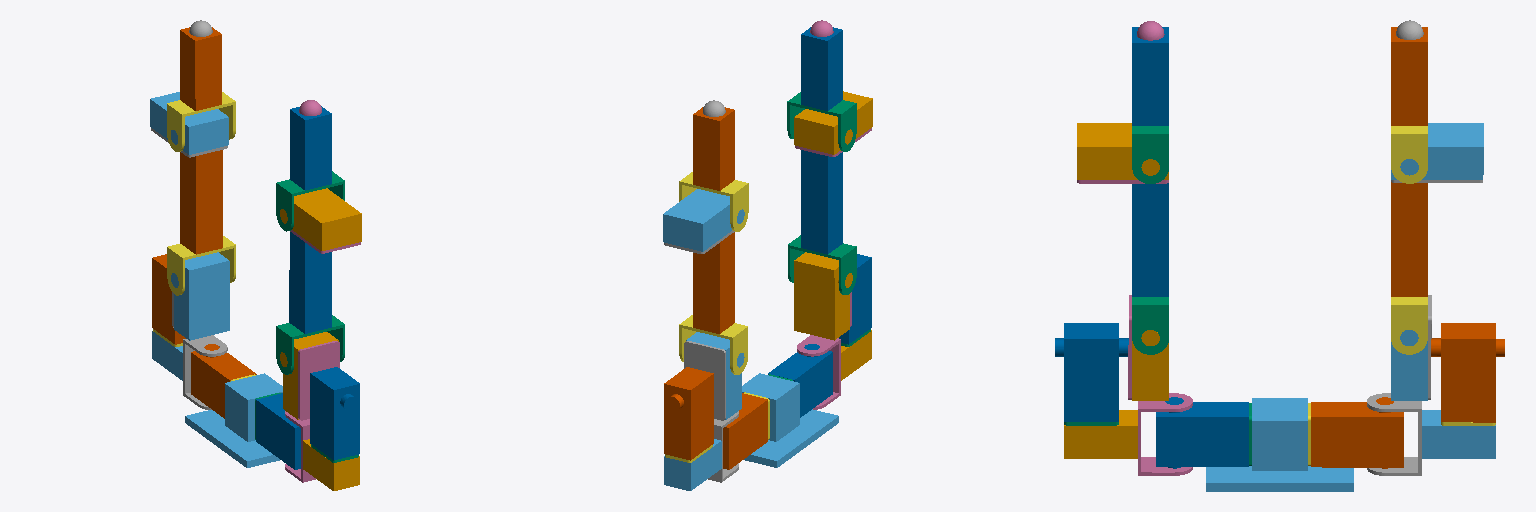
--- What the picture shows (computed from the rendered views, not written in the file) ---
Views: 3 orthographic renders of the robot side by side, from view 1: azimuth 30°, elevation 25°; view 2: azimuth 150°, elevation 25°; view 3: azimuth 270°, elevation 25°.
Model gripper_v1 with 34 links and 33 joints (8 revolute, 25 fixed), rooted at map, posed all joints at 0.
Visible links, largest first — view 1: base_link, link_20, link_11, link_16, link_19, link_23, link_27, link_28, link_24, link_4, link_3, link_13 (+10 smaller); view 2: base_link, link_12, link_15, link_19, link_20, link_24, link_27, link_28, link_23, link_4, link_3, link_8 (+10 smaller); view 3: base_link, link_4, link_3, link_12, link_11, link_20, link_19, link_24, link_23, link_28, link_27, link_7 (+9 smaller).
Link boxes in pixels (x1,y1,x2,y2): base_link: (185, 373, 282, 467); link_20: (180, 150, 222, 254); link_11: (310, 367, 359, 460); link_16: (171, 252, 229, 340); link_19: (289, 232, 331, 333); link_23: (280, 188, 361, 250); link_27: (290, 106, 331, 190); link_28: (180, 27, 221, 110); link_24: (150, 92, 228, 154); link_4: (191, 344, 256, 418); link_3: (256, 393, 300, 469); link_13: (298, 341, 339, 420); base_link: (742, 373, 838, 467); link_12: (664, 367, 713, 460); link_15: (794, 252, 852, 340); link_19: (801, 150, 842, 254); link_20: (693, 232, 734, 333); link_24: (663, 189, 744, 251); link_27: (801, 27, 842, 110); link_28: (693, 107, 734, 190); link_23: (794, 91, 872, 154); link_4: (723, 393, 767, 469); link_3: (768, 344, 832, 417); link_8: (664, 439, 721, 490); base_link: (1206, 398, 1353, 491); link_4: (1311, 397, 1403, 468); link_3: (1156, 397, 1248, 468); link_12: (1431, 323, 1504, 422); link_11: (1055, 323, 1128, 421); link_20: (1391, 182, 1427, 296); link_19: (1132, 183, 1168, 296); link_24: (1391, 123, 1483, 179); link_23: (1077, 123, 1168, 179); link_28: (1391, 27, 1427, 125); link_27: (1132, 27, 1168, 125); link_7: (1064, 410, 1137, 458).
Bounding box of the posed robot: 0.6 × 2.44 × 2.67 m (x, y, z).
25 mesh visuals loaded from 6 distinct referenced files (6 binary STL).

robot.urdf — gripper_v1:
<?xml version="1.0" ?>
<robot name="gripper_v1">
    <!-- ################################################################################################# -->
    <!-- Map -->
    <link name="map" />
    <!-- Base Link -->
    <link name="base_link">
        <visual>
            <geometry>
                <mesh filename="package://robot_description/meshes/Base.stl" scale="0.01 0.01 0.01" />
            </geometry>
            <material name="White" />
        </visual>
        <collision>
            <geometry>
                <mesh filename="package://robot_description/meshes/Base.stl" scale="0.01 0.01 0.01" />
            </geometry>
            <material name="White" />
        </collision>
        <inertial>
            <mass value="1.0" />
            <origin xyz="0 0 0" rpy="0 0 0" />
            <inertia ixx="0.01" ixy="0" ixz="0" iyy="0.01" iyz="0" izz="0.01" />
        </inertial>
    </link>
    <!-- Joint 0 -->
    <joint name="joint_0" type="fixed">
        <parent link="map" />
        <child link="base_link" />
        <origin xyz="0 0 0.025" rpy="0 0 0" />
    </joint>
    <!-- ################################################################################################# -->
    <!-- Link 1 -->
    <link name="link_1">
        <visual>
            <geometry>
                <mesh filename="package://robot_description/meshes/Servo_Plate_20x30.stl" scale="0.01 0.01 0.01" />
            </geometry>
            <material name="Grey" />
        </visual>
        <collision>
            <geometry>
                <mesh filename="package://robot_description/meshes/Servo_Plate_20x30.stl" scale="0.01 0.01 0.01" />
            </geometry>
            <material name="Grey" />
        </collision>
        <inertial>
            <mass value="1.0" />
            <origin xyz="0 0 0" rpy="0 0 0" />
            <inertia ixx="0.01" ixy="0" ixz="0" iyy="0.01" iyz="0" izz="0.01" />
        </inertial>
    </link>
    <!-- Joint 1 -->
    <joint name="joint_1" type="fixed">
        <parent link="base_link" />
        <child link="link_1" />
        <origin xyz="0 -0.15 0.20" rpy="1.57 0 0" />
    </joint>
    <!-- Link 2 -->
    <link name="link_2">
        <visual>
            <geometry>
                <mesh filename="package://robot_description/meshes/Servo_Plate_20x30.stl" scale="0.01 0.01 0.01" />
            </geometry>
            <material name="Grey" />
        </visual>
        <collision>
            <geometry>
                <mesh filename="package://robot_description/meshes/Servo_Plate_20x30.stl" scale="0.01 0.01 0.01" />
            </geometry>
            <material name="Grey" />
        </collision>
        <inertial>
            <mass value="1.0" />
            <origin xyz="0 0 0" rpy="0 0 0" />
            <inertia ixx="0.01" ixy="0" ixz="0" iyy="0.01" iyz="0" izz="0.01" />
        </inertial>
    </link>
    <!-- Joint 2 -->
    <joint name="joint_2" type="fixed">
        <parent link="base_link" />
        <child link="link_2" />
        <origin xyz="0 0.15 0.20" rpy="-1.57 3.14 0" />
    </joint>
    <!-- ################################################################################################# -->
    <!-- Link 3 -->
    <link name="link_3">
        <visual>
            <geometry>
                <mesh filename="package://robot_description/meshes/Servo1.stl" scale="0.01 0.01 0.01" />
            </geometry>
            <material name="Blue" />
        </visual>
        <collision>
            <geometry>
                <mesh filename="package://robot_description/meshes/Servo1.stl" scale="0.01 0.01 0.01" />
            </geometry>
            <material name="Blue" />
        </collision>
        <inertial>
            <mass value="1.0" />
            <origin xyz="0 0 0" rpy="0 0 0" />
            <inertia ixx="0.01" ixy="0" ixz="0" iyy="0.01" iyz="0" izz="0.01" />
        </inertial>
    </link>
    <!-- Joint 3 -->
    <joint name="joint_3" type="fixed">
        <parent link="link_1" />
        <child link="link_3" />
        <origin xyz="0 0 0.42" rpy="-1.57 0 0" />
    </joint>
    <!-- Link 4 -->
    <link name="link_4">
        <visual>
            <geometry>
                <mesh filename="package://robot_description/meshes/Servo1.stl" scale="0.01 0.01 0.01" />
            </geometry>
            <material name="Blue" />
        </visual>
        <collision>
            <geometry>
                <mesh filename="package://robot_description/meshes/Servo1.stl" scale="0.01 0.01 0.01" />
            </geometry>
            <material name="Blue" />
        </collision>
        <inertial>
            <mass value="1.0" />
            <origin xyz="0 0 0" rpy="0 0 0" />
            <inertia ixx="0.01" ixy="0" ixz="0" iyy="0.01" iyz="0" izz="0.01" />
        </inertial>
    </link>
    <!-- Joint 4 -->
    <joint name="joint_4" type="fixed">
        <parent link="link_2" />
        <child link="link_4" />
        <origin xyz="0 0 0.42" rpy="-1.57 0 0" />
    </joint>
    <!-- ################################################################################################# -->
    <!-- Link 5 -->
    <link name="link_5">
        <visual>
            <geometry>
                <mesh filename="package://robot_description/meshes/Clamp.stl" scale="0.01 0.01 0.01" />
            </geometry>
            <material name="Red" />
        </visual>
        <collision>
            <geometry>
                <mesh filename="package://robot_description/meshes/Clamp.stl" scale="0.01 0.01 0.01" />
            </geometry>
            <material name="Red" />
        </collision>
        <inertial>
            <mass value="1.0" />
            <origin xyz="0 0 0" rpy="0 0 0" />
            <inertia ixx="0.01" ixy="0" ixz="0" iyy="0.01" iyz="0" izz="0.01" />
        </inertial>
    </link>
    <!-- Joint 5 -->
    <joint name="joint_5" type="revolute">
        <parent link="link_3" />
        <child link="link_5" />
        <origin xyz="0 0 0" rpy="0 0 1.57" />
        <axis xyz="0 0 1" />
        <limit effort="10" lower="-1.57" upper="1.57" velocity="5" />
    </joint>
    <!-- Link 6 -->
    <link name="link_6">
        <visual>
            <geometry>
                <mesh filename="package://robot_description/meshes/Clamp.stl" scale="0.01 0.01 0.01" />
            </geometry>
            <material name="Red" />
        </visual>
        <collision>
            <geometry>
                <mesh filename="package://robot_description/meshes/Clamp.stl" scale="0.01 0.01 0.01" />
            </geometry>
            <material name="Red" />
        </collision>
        <inertial>
            <mass value="1.0" />
            <origin xyz="0 0 0" rpy="0 0 0" />
            <inertia ixx="0.01" ixy="0" ixz="0" iyy="0.01" iyz="0" izz="0.01" />
        </inertial>
    </link>
    <!-- Joint 6 -->
    <joint name="joint_6" type="revolute">
        <parent link="link_4" />
        <child link="link_6" />
        <origin xyz="0 0 0" rpy="0 0 1.57" />
        <axis xyz="0 0 1" />
        <limit effort="10" lower="-1.57" upper="1.57" velocity="5" />
    </joint>
    <!-- ################################################################################################# -->
    <!-- Link 7 -->
    <link name="link_7">
        <visual>
            <geometry>
                <box size="0.2 0.2 0.4" />
            </geometry>
            <material name="White" />
        </visual>
        <collision>
            <geometry>
                <box size="0.2 0.2 0.4" />
            </geometry>
            <material name="White" />
        </collision>
        <inertial>
            <mass value="1.0" />
            <origin xyz="0 0 0" rpy="0 0 0" />
            <inertia ixx="0.01" ixy="0" ixz="0" iyy="0.01" iyz="0" izz="0.01" />
        </inertial>
    </link>
    <!-- Joint 7 -->
    <joint name="joint_7" type="fixed">
        <parent link="link_5" />
        <child link="link_7" />
        <origin xyz="-0.40 0 0" rpy="0 -1.57 0 " />
    </joint>
    <!-- Link 8 -->
    <link name="link_8">
        <visual>
            <geometry>
                <box size="0.2 0.2 0.4" />
            </geometry>
            <material name="White" />
        </visual>
        <collision>
            <geometry>
                <box size="0.2 0.2 0.4" />
            </geometry>
            <material name="White" />
        </collision>
        <inertial>
            <mass value="1.0" />
            <origin xyz="0 0 0" rpy="0 0 0" />
            <inertia ixx="0.01" ixy="0" ixz="0" iyy="0.01" iyz="0" izz="0.01" />
        </inertial>
    </link>
    <!-- Joint 8 -->
    <joint name="joint_8" type="fixed">
        <parent link="link_6" />
        <child link="link_8" />
        <origin xyz="-0.40 0 0" rpy="0 -1.57 0" />
    </joint>
    <!-- ################################################################################################# -->
    <!-- Link 9 -->
    <link name="link_9">
        <visual>
            <geometry>
                <mesh filename="package://robot_description/meshes/Servo_Plate_20x30.stl" scale="0.01 0.01 0.01" />
            </geometry>
            <material name="Grey" />
        </visual>
        <collision>
            <geometry>
                <mesh filename="package://robot_description/meshes/Servo_Plate_20x30.stl" scale="0.01 0.01 0.01" />
            </geometry>
            <material name="Grey" />
        </collision>
        <inertial>
            <mass value="1.0" />
            <origin xyz="0 0 0" rpy="0 0 0" />
            <inertia ixx="0.01" ixy="0" ixz="0" iyy="0.01" iyz="0" izz="0.01" />
        </inertial>
    </link>
    <!-- Joint 9 -->
    <joint name="joint_9" type="fixed">
        <parent link="link_7" />
        <child link="link_9" />
        <origin xyz="0.1 0 0.05" rpy="1.57 0 1.57" />
    </joint>
    <!-- Link 10 -->
    <link name="link_10">
        <visual>
            <geometry>
                <mesh filename="package://robot_description/meshes/Servo_Plate_20x30.stl" scale="0.01 0.01 0.01" />
            </geometry>
            <material name="Grey" />
        </visual>
        <collision>
            <geometry>
                <mesh filename="package://robot_description/meshes/Servo_Plate_20x30.stl" scale="0.01 0.01 0.01" />
            </geometry>
            <material name="Grey" />
        </collision>
        <inertial>
            <mass value="1.0" />
            <origin xyz="0 0 0" rpy="0 0 0" />
            <inertia ixx="0.01" ixy="0" ixz="0" iyy="0.01" iyz="0" izz="0.01" />
        </inertial>
    </link>
    <!-- Joint 10 -->
    <joint name="joint_10" type="fixed">
        <parent link="link_8" />
        <child link="link_10" />
        <origin xyz="0.1 0 0.05" rpy="1.57 0 1.57" />
    </joint>
    <!-- ################################################################################################# -->
    <!-- Link 11 -->
    <link name="link_11">
        <visual>
            <geometry>
                <mesh filename="package://robot_description/meshes/Servo1.stl" scale="0.01 0.01 0.01" />
            </geometry>
            <material name="Blue" />
        </visual>
        <collision>
            <geometry>
                <mesh filename="package://robot_description/meshes/Servo1.stl" scale="0.01 0.01 0.01" />
            </geometry>
            <material name="Blue" />
        </collision>
        <inertial>
            <mass value="1.0" />
            <origin xyz="0 0 0" rpy="0 0 0" />
            <inertia ixx="0.01" ixy="0" ixz="0" iyy="0.01" iyz="0" izz="0.01" />
        </inertial>
    </link>
    <!-- Joint 11 -->
    <joint name="joint_11" type="fixed">
        <parent link="link_9" />
        <child link="link_11" />
        <origin xyz="0 0 0.42" rpy="-1.57 0 0" />
    </joint>
    <!-- Link 12 -->
    <link name="link_12">
        <visual>
            <geometry>
                <mesh filename="package://robot_description/meshes/Servo1.stl" scale="0.01 0.01 0.01" />
            </geometry>
            <material name="Blue" />
        </visual>
        <collision>
            <geometry>
                <mesh filename="package://robot_description/meshes/Servo1.stl" scale="0.01 0.01 0.01" />
            </geometry>
            <material name="Blue" />
        </collision>
        <inertial>
            <mass value="1.0" />
            <origin xyz="0 0 0" rpy="0 0 0" />
            <inertia ixx="0.01" ixy="0" ixz="0" iyy="0.01" iyz="0" izz="0.01" />
        </inertial>
    </link>
    <!-- Joint 12 -->
    <joint name="joint_12" type="fixed">
        <parent link="link_10" />
        <child link="link_12" />
        <origin xyz="0 0 0.42" rpy="-1.57 0 0" />
    </joint>
    <!-- ################################################################################################# -->
    <!-- Link 13 -->
    <link name="link_13">
        <visual>
            <geometry>
                <mesh filename="package://robot_description/meshes/Servo_Plate_30x50.stl" scale="0.01 0.01 0.01" />
            </geometry>
            <material name="Grey" />
        </visual>
        <collision>
            <geometry>
                <mesh filename="package://robot_description/meshes/Servo_Plate_30x50.stl" scale="0.01 0.01 0.01" />
            </geometry>
            <material name="Grey" />
        </collision>
        <inertial>
            <mass value="1.0" />
            <origin xyz="0 0 0" rpy="0 0 0" />
            <inertia ixx="0.01" ixy="0" ixz="0" iyy="0.01" iyz="0" izz="0.01" />
        </inertial>
    </link>
    <!-- Joint 13 -->
    <joint name="joint_13" type="revolute">
        <parent link="link_11" />
        <child link="link_13" />
        <origin xyz="0 0 -0.22" rpy="0 0 0" />
        <axis xyz="0 0 1" />
        <limit effort="10" lower="-1.57" upper="1.57" velocity="5" />
    </joint>
    <!-- Link 14 -->
    <link name="link_14">
        <visual>
            <geometry>
                <mesh filename="package://robot_description/meshes/Servo_Plate_30x50.stl" scale="0.01 0.01 0.01" />
            </geometry>
            <material name="Grey" />
        </visual>
        <collision>
            <geometry>
                <mesh filename="package://robot_description/meshes/Servo_Plate_30x50.stl" scale="0.01 0.01 0.01" />
            </geometry>
            <material name="Grey" />
        </collision>
        <inertial>
            <mass value="1.0" />
            <origin xyz="0 0 0" rpy="0 0 0" />
            <inertia ixx="0.01" ixy="0" ixz="0" iyy="0.01" iyz="0" izz="0.01" />
        </inertial>
    </link>
    <!-- Joint 14 -->
    <joint name="joint_14" type="revolute">
        <parent link="link_12" />
        <child link="link_14" />
        <origin xyz="0 0 -0.22" rpy="0 0 0" />
        <axis xyz="0 0 1" />
        <limit effort="10" lower="-1.57" upper="1.57" velocity="5" />
    </joint>
    <!-- ################################################################################################# -->
    <!-- Link 15 -->
    <link name="link_15">
        <visual>
            <geometry>
                <mesh filename="package://robot_description/meshes/Servo1.stl" scale="0.01 0.01 0.01" />
            </geometry>
            <material name="Blue" />
        </visual>
        <collision>
            <geometry>
                <mesh filename="package://robot_description/meshes/Servo1.stl" scale="0.01 0.01 0.01" />
            </geometry>
            <material name="Blue" />
        </collision>
        <inertial>
            <mass value="1.0" />
            <origin xyz="0 0 0" rpy="0 0 0" />
            <inertia ixx="0.01" ixy="0" ixz="0" iyy="0.01" iyz="0" izz="0.01" />
        </inertial>
    </link>
    <!-- Joint 15 -->
    <joint name="joint_15" type="fixed">
        <parent link="link_13" />
        <child link="link_15" />
        <origin xyz="0 -0.15 -0.10" rpy="0 1.57 0" />
    </joint>
    <!-- Link 16 -->
    <link name="link_16">
        <visual>
            <geometry>
                <mesh filename="package://robot_description/meshes/Servo1.stl" scale="0.01 0.01 0.01" />
            </geometry>
            <material name="Blue" />
        </visual>
        <collision>
            <geometry>
                <mesh filename="package://robot_description/meshes/Servo1.stl" scale="0.01 0.01 0.01" />
            </geometry>
            <material name="Blue" />
        </collision>
        <inertial>
            <mass value="1.0" />
            <origin xyz="0 0 0" rpy="0 0 0" />
            <inertia ixx="0.01" ixy="0" ixz="0" iyy="0.01" iyz="0" izz="0.01" />
        </inertial>
    </link>
    <!-- Joint 16 -->
    <joint name="joint_16" type="fixed">
        <parent link="link_14" />
        <child link="link_16" />
        <origin xyz="0 -0.15 -0.10" rpy="0 1.57 0" />
    </joint>
    <!-- ################################################################################################# -->
    <!-- Link 17 -->
    <link name="link_17">
        <visual>
            <geometry>
                <mesh filename="package://robot_description/meshes/Clamp.stl" scale="0.01 0.01 0.01" />
            </geometry>
            <material name="Red" />
        </visual>
        <collision>
            <geometry>
                <mesh filename="package://robot_description/meshes/Clamp.stl" scale="0.01 0.01 0.01" />
            </geometry>
            <material name="Red" />
        </collision>
        <inertial>
            <mass value="1.0" />
            <origin xyz="0 0 0" rpy="0 0 0" />
            <inertia ixx="0.01" ixy="0" ixz="0" iyy="0.01" iyz="0" izz="0.01" />
        </inertial>
    </link>
    <!-- Joint 17 -->
    <joint name="joint_17" type="revolute">
        <parent link="link_15" />
        <child link="link_17" />
        <origin xyz="0 0 0" rpy="0 0 1.57" />
        <axis xyz="0 0 1" />
        <limit effort="10" lower="-1.57" upper="1.57" velocity="5" />
    </joint>
    <!-- Link 18 -->
    <link name="link_18">
        <visual>
            <geometry>
                <mesh filename="package://robot_description/meshes/Clamp.stl" scale="0.01 0.01 0.01" />
            </geometry>
            <material name="Red" />
        </visual>
        <collision>
            <geometry>
                <mesh filename="package://robot_description/meshes/Clamp.stl" scale="0.01 0.01 0.01" />
            </geometry>
            <material name="Red" />
        </collision>
        <inertial>
            <mass value="1.0" />
            <origin xyz="0 0 0" rpy="0 0 0" />
            <inertia ixx="0.01" ixy="0" ixz="0" iyy="0.01" iyz="0" izz="0.01" />
        </inertial>
    </link>
    <!-- Joint 18 -->
    <joint name="joint_18" type="revolute">
        <parent link="link_16" />
        <child link="link_18" />
        <origin xyz="0 0 0" rpy="0 0 1.57" />
        <axis xyz="0 0 1" />
        <limit effort="10" lower="-1.57" upper="1.57" velocity="5" />
    </joint>
    <!-- ################################################################################################# -->
    <!-- Link 19 -->
    <link name="link_19">
        <visual>
            <geometry>
                <box size="0.7 0.2 0.2" />
            </geometry>
            <material name="White" />
        </visual>
        <collision>
            <geometry>
                <box size="0.7 0.2 0.2" />
            </geometry>
            <material name="White" />
        </collision>
        <inertial>
            <mass value="1.0" />
            <origin xyz="0 0 0" rpy="0 0 0" />
            <inertia ixx="0.01" ixy="0" ixz="0" iyy="0.01" iyz="0" izz="0.01" />
        </inertial>
    </link>
    <!-- Joint 19 -->
    <joint name="joint_19" type="fixed">
        <parent link="link_17" />
        <child link="link_19" />
        <origin xyz="-0.55 0 0" rpy="0 0 0 " />
    </joint>
    <!-- Link 20 -->
    <link name="link_20">
        <visual>
            <geometry>
                <box size="0.7 0.2 0.2" />
            </geometry>
            <material name="White" />
        </visual>
        <collision>
            <geometry>
                <box size="0.7 0.2 0.2" />
            </geometry>
            <material name="White" />
        </collision>
        <inertial>
            <mass value="1.0" />
            <origin xyz="0 0 0" rpy="0 0 0" />
            <inertia ixx="0.01" ixy="0" ixz="0" iyy="0.01" iyz="0" izz="0.01" />
        </inertial>
    </link>
    <!-- Joint 20 -->
    <joint name="joint_20" type="fixed">
        <parent link="link_18" />
        <child link="link_20" />
        <origin xyz="-0.55 0 0" rpy="0 0 0" />
    </joint>
    <!-- ################################################################################################# -->
    <!-- Link 21 -->
    <link name="link_21">
        <visual>
            <geometry>
                <mesh filename="package://robot_description/meshes/Servo_Plate_30x50.stl" scale="0.01 0.01 0.01" />
            </geometry>
            <material name="Grey" />
        </visual>
        <collision>
            <geometry>
                <mesh filename="package://robot_description/meshes/Servo_Plate_30x50.stl" scale="0.01 0.01 0.01" />
            </geometry>
            <material name="Grey" />
        </collision>
        <inertial>
            <mass value="1.0" />
            <origin xyz="0 0 0" rpy="0 0 0" />
            <inertia ixx="0.01" ixy="0" ixz="0" iyy="0.01" iyz="0" izz="0.01" />
        </inertial>
    </link>
    <!-- Joint 21 -->
    <joint name="joint_21" type="fixed">
        <parent link="link_19" />
        <child link="link_21" />
        <origin xyz="-0.35 0.15 0" rpy="0 -1.57 0" />
    </joint>
    <!-- Link 22 -->
    <link name="link_22">
        <visual>
            <geometry>
                <mesh filename="package://robot_description/meshes/Servo_Plate_30x50.stl" scale="0.01 0.01 0.01" />
            </geometry>
            <material name="Grey" />
        </visual>
        <collision>
            <geometry>
                <mesh filename="package://robot_description/meshes/Servo_Plate_30x50.stl" scale="0.01 0.01 0.01" />
            </geometry>
            <material name="Grey" />
        </collision>
        <inertial>
            <mass value="1.0" />
            <origin xyz="0 0 0" rpy="0 0 0" />
            <inertia ixx="0.01" ixy="0" ixz="0" iyy="0.01" iyz="0" izz="0.01" />
        </inertial>
    </link>
    <!-- Joint 22 -->
    <joint name="joint_22" type="fixed">
        <parent link="link_20" />
        <child link="link_22" />
        <origin xyz="-0.35 0.15 0" rpy="0 -1.57 0" />
    </joint>
    <!-- ################################################################################################# -->
    <!-- Link 23 -->
    <link name="link_23">
        <visual>
            <geometry>
                <mesh filename="package://robot_description/meshes/Servo1.stl" scale="0.01 0.01 0.01" />
            </geometry>
            <material name="Blue" />
        </visual>
        <collision>
            <geometry>
                <mesh filename="package://robot_description/meshes/Servo1.stl" scale="0.01 0.01 0.01" />
            </geometry>
            <material name="Blue" />
        </collision>
        <inertial>
            <mass value="1.0" />
            <origin xyz="0 0 0" rpy="0 0 0" />
            <inertia ixx="0.01" ixy="0" ixz="0" iyy="0.01" iyz="0" izz="0.01" />
        </inertial>
    </link>
    <!-- Joint 23 -->
    <joint name="joint_23" type="fixed">
        <parent link="link_21" />
        <child link="link_23" />
        <origin xyz="0 -0.15 0.12" rpy="0 1.57 0" />
    </joint>
    <!-- Link 24 -->
    <link name="link_24">
        <visual>
            <geometry>
                <mesh filename="package://robot_description/meshes/Servo1.stl" scale="0.01 0.01 0.01" />
            </geometry>
            <material name="Blue" />
        </visual>
        <collision>
            <geometry>
                <mesh filename="package://robot_description/meshes/Servo1.stl" scale="0.01 0.01 0.01" />
            </geometry>
            <material name="Blue" />
        </collision>
        <inertial>
            <mass value="1.0" />
            <origin xyz="0 0 0" rpy="0 0 0" />
            <inertia ixx="0.01" ixy="0" ixz="0" iyy="0.01" iyz="0" izz="0.01" />
        </inertial>
    </link>
    <!-- Joint 24 -->
    <joint name="joint_24" type="fixed">
        <parent link="link_22" />
        <child link="link_24" />
        <origin xyz="0 -0.15 0.12" rpy="0 1.57 0" />
    </joint>
    <!-- ################################################################################################# -->
    <!-- Link 25 -->
    <link name="link_25">
        <visual>
            <geometry>
                <mesh filename="package://robot_description/meshes/Clamp.stl" scale="0.01 0.01 0.01" />
            </geometry>
            <material name="Red" />
        </visual>
        <collision>
            <geometry>
                <mesh filename="package://robot_description/meshes/Clamp.stl" scale="0.01 0.01 0.01" />
            </geometry>
            <material name="Red" />
        </collision>
        <inertial>
            <mass value="1.0" />
            <origin xyz="0 0 0" rpy="0 0 0" />
            <inertia ixx="0.01" ixy="0" ixz="0" iyy="0.01" iyz="0" izz="0.01" />
        </inertial>
    </link>
    <!-- Joint 25 -->
    <joint name="joint_25" type="revolute">
        <parent link="link_23" />
        <child link="link_25" />
        <origin xyz="0 0 0" rpy="0 0 0" />
        <axis xyz="0 0 1" />
        <limit effort="10" lower="-1.57" upper="1.57" velocity="5" />
    </joint>
    <!-- Link 26 -->
    <link name="link_26">
        <visual>
            <geometry>
                <mesh filename="package://robot_description/meshes/Clamp.stl" scale="0.01 0.01 0.01" />
            </geometry>
            <material name="Red" />
        </visual>
        <collision>
            <geometry>
                <mesh filename="package://robot_description/meshes/Clamp.stl" scale="0.01 0.01 0.01" />
            </geometry>
            <material name="Red" />
        </collision>
        <inertial>
            <mass value="1.0" />
            <origin xyz="0 0 0" rpy="0 0 0" />
            <inertia ixx="0.01" ixy="0" ixz="0" iyy="0.01" iyz="0" izz="0.01" />
        </inertial>
    </link>
    <!-- Joint 26 -->
    <joint name="joint_26" type="revolute">
        <parent link="link_24" />
        <child link="link_26" />
        <origin xyz="0 0 0" rpy="0 0 0" />
        <axis xyz="0 0 1" />
        <limit effort="10" lower="-1.57" upper="1.57" velocity="5" />
    </joint>
    <!-- ################################################################################################# -->
    <!-- Link 27 -->
    <link name="link_27">
        <visual>
            <geometry>
                <box size="0.5 0.2 0.2" />
            </geometry>
            <material name="White" />
        </visual>
        <collision>
            <geometry>
                <box size="0.5 0.2 0.2" />
            </geometry>
            <material name="White" />
        </collision>
        <inertial>
            <mass value="1.0" />
            <origin xyz="0 0 0" rpy="0 0 0" />
            <inertia ixx="0.01" ixy="0" ixz="0" iyy="0.01" iyz="0" izz="0.01" />
        </inertial>
    </link>
    <!-- Joint 27 -->
    <joint name="joint_27" type="fixed">
        <parent link="link_25" />
        <child link="link_27" />
        <origin xyz="-0.45 0 0" rpy="0 0 0 " />
    </joint>
    <!-- Link 28 -->
    <link name="link_28">
        <visual>
            <geometry>
                <box size="0.5 0.2 0.2" />
            </geometry>
            <material name="White" />
        </visual>
        <collision>
            <geometry>
                <box size="0.5 0.2 0.2" />
            </geometry>
            <material name="White" />
        </collision>
        <inertial>
            <mass value="1.0" />
            <origin xyz="0 0 0" rpy="0 0 0" />
            <inertia ixx="0.01" ixy="0" ixz="0" iyy="0.01" iyz="0" izz="0.01" />
        </inertial>
    </link>
    <!-- Joint 28 -->
    <joint name="joint_28" type="fixed">
        <parent link="link_26" />
        <child link="link_28" />
        <origin xyz="-0.45 0 0" rpy="0 0 0" />
    </joint>
    <!-- ################################################################################################# -->
    <!-- Link 29 -->
    <link name="link_29">
        <visual>
            <geometry>
                <mesh filename="package://robot_description/meshes/Hemisphere.stl" scale="0.01 0.01 0.01" />
            </geometry>
            <material name="Red" />
        </visual>
        <collision>
            <geometry>
                <mesh filename="package://robot_description/meshes/Hemisphere.stl" scale="0.01 0.01 0.01" />
            </geometry>
            <material name="Red" />
        </collision>
        <inertial>
            <mass value="1.0" />
            <origin xyz="0 0 0" rpy="0 0 0" />
            <inertia ixx="0.01" ixy="0" ixz="0" iyy="0.01" iyz="0" izz="0.01" />
        </inertial>
    </link>
    <!-- Joint 29 -->
    <joint name="joint_29" type="fixed">
        <parent link="link_27" />
        <child link="link_29" />
        <origin xyz="-0.25 0 0" rpy="0 -1.57 0" />
    </joint>
    <!-- Link 30 -->
    <link name="link_30">
        <visual>
            <geometry>
                <mesh filename="package://robot_description/meshes/Hemisphere.stl" scale="0.01 0.01 0.01" />
            </geometry>
            <material name="Red" />
        </visual>
        <collision>
            <geometry>
                <mesh filename="package://robot_description/meshes/Hemisphere.stl" scale="0.01 0.01 0.01" />
            </geometry>
            <material name="Red" />
        </collision>
        <inertial>
            <mass value="1.0" />
            <origin xyz="0 0 0" rpy="0 0 0" />
            <inertia ixx="0.01" ixy="0" ixz="0" iyy="0.01" iyz="0" izz="0.01" />
        </inertial>
    </link>
    <!-- Joint 30 -->
    <joint name="joint_30" type="fixed">
        <parent link="link_28" />
        <child link="link_30" />
        <origin xyz="-0.25 0 0" rpy="0 -1.57 0" />
    </joint>
    <!-- ################################################################################################# -->
    <!-- Link 31 -->
    <link name="link_31">
        <visual>
            <geometry>
                <sphere radius="0.001" />
            </geometry>
            <material name="Red" />
        </visual>
        <collision>
            <geometry>
                <sphere radius="0.001" />
            </geometry>
            <material name="Red" />
        </collision>
        <inertial>
            <mass value="1.0" />
            <origin xyz="0 0 0" rpy="0 0 0" />
            <inertia ixx="0.01" ixy="0" ixz="0" iyy="0.01" iyz="0" izz="0.01" />
        </inertial>
    </link>
    <!-- Joint 31 -->
    <joint name="joint_31" type="fixed">
        <parent link="link_29" />
        <child link="link_31" />
        <origin xyz="0 0 0.075" rpy="0 -1.57 0" />
    </joint>
    <!-- Link 32 -->
    <link name="link_32">
        <visual>
            <geometry>
                <sphere radius="0.001" />
            </geometry>
            <material name="Red" />
        </visual>
        <collision>
            <geometry>
                <sphere radius="0.001" />
            </geometry>
            <material name="Red" />
        </collision>
        <inertial>
            <mass value="1.0" />
            <origin xyz="0 0 0" rpy="0 0 0" />
            <inertia ixx="0.01" ixy="0" ixz="0" iyy="0.01" iyz="0" izz="0.01" />
        </inertial>
    </link>
    <!-- Joint 32 -->
    <joint name="joint_32" type="fixed">
        <parent link="link_30" />
        <child link="link_32" />
        <origin xyz="0 0 0.075" rpy="0 -1.57 0" />
    </joint>
    <!-- ################################################################################################# -->
    <!-- Gazebo plugin for ROS integration -->
    <gazebo>
        <plugin name="gazebo_ros_control" filename="libgazebo_ros_control.so">
            <robotNamespace>/</robotNamespace>
            <controlPeriod>0.001</controlPeriod>
            <robotSimType>gazebo_ros_control/DefaultRobotHWSim</robotSimType>
        </plugin>
    </gazebo>
    <gazebo reference="base_link">
        <mesh>
            <uri>model://robot_description/meshes/Base.stl</uri>
            <scale>1 1 1</scale>
        </mesh>
        <material>Gazebo/White</material>
    </gazebo>
    <gazebo reference="link_1">
        <material>Gazebo/Blue</material>
    </gazebo>
    <gazebo reference="link_2">
        <material>Gazebo/Red</material>
    </gazebo>
    <transmission name="trans_joint_5">
        <type>transmission_interface/SimpleTransmission</type>
        <joint name="joint_5">
            <hardwareInterface>hardware_interface/EffortJointInterface</hardwareInterface>
        </joint>
        <actuator name="joint_5_motor">
            <hardwareInterface>hardware_interface/EffortJointInterface</hardwareInterface>
            <mechanicalReduction>1</mechanicalReduction>
        </actuator>
    </transmission>
    <transmission name="trans_joint_6">
        <type>transmission_interface/SimpleTransmission</type>
        <joint name="joint_6">
            <hardwareInterface>hardware_interface/EffortJointInterface</hardwareInterface>
        </joint>
        <actuator name="joint_6_motor">
            <hardwareInterface>hardware_interface/EffortJointInterface</hardwareInterface>
            <mechanicalReduction>1</mechanicalReduction>
        </actuator>
    </transmission>
    <transmission name="trans_joint_13">
        <type>transmission_interface/SimpleTransmission</type>
        <joint name="joint_13">
            <hardwareInterface>hardware_interface/EffortJointInterface</hardwareInterface>
        </joint>
        <actuator name="joint_13_motor">
            <hardwareInterface>hardware_interface/EffortJointInterface</hardwareInterface>
            <mechanicalReduction>1</mechanicalReduction>
        </actuator>
    </transmission>
    <transmission name="trans_joint_14">
        <type>transmission_interface/SimpleTransmission</type>
        <joint name="joint_14">
            <hardwareInterface>hardware_interface/EffortJointInterface</hardwareInterface>
        </joint>
        <actuator name="joint_14_motor">
            <hardwareInterface>hardware_interface/EffortJointInterface</hardwareInterface>
            <mechanicalReduction>1</mechanicalReduction>
        </actuator>
    </transmission>
    <transmission name="trans_joint_17">
        <type>transmission_interface/SimpleTransmission</type>
        <joint name="joint_17">
            <hardwareInterface>hardware_interface/EffortJointInterface</hardwareInterface>
        </joint>
        <actuator name="joint_17_motor">
            <hardwareInterface>hardware_interface/EffortJointInterface</hardwareInterface>
            <mechanicalReduction>1</mechanicalReduction>
        </actuator>
    </transmission>
    <transmission name="trans_joint_18">
        <type>transmission_interface/SimpleTransmission</type>
        <joint name="joint_18">
            <hardwareInterface>hardware_interface/EffortJointInterface</hardwareInterface>
        </joint>
        <actuator name="joint_18_motor">
            <hardwareInterface>hardware_interface/EffortJointInterface</hardwareInterface>
            <mechanicalReduction>1</mechanicalReduction>
        </actuator>
    </transmission>
    <transmission name="trans_joint_25">
        <type>transmission_interface/SimpleTransmission</type>
        <joint name="joint_25">
            <hardwareInterface>hardware_interface/EffortJointInterface</hardwareInterface>
        </joint>
        <actuator name="joint_25_motor">
            <hardwareInterface>hardware_interface/EffortJointInterface</hardwareInterface>
            <mechanicalReduction>1</mechanicalReduction>
        </actuator>
    </transmission>
    <transmission name="trans_joint_26">
        <type>transmission_interface/SimpleTransmission</type>
        <joint name="joint_26">
            <hardwareInterface>hardware_interface/EffortJointInterface</hardwareInterface>
        </joint>
        <actuator name="joint_26_motor">
            <hardwareInterface>hardware_interface/EffortJointInterface</hardwareInterface>
            <mechanicalReduction>1</mechanicalReduction>
        </actuator>
    </transmission>
</robot>
